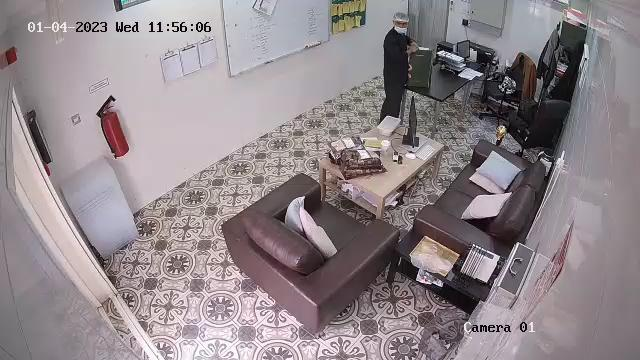no_apron: (388, 37, 410, 91)
